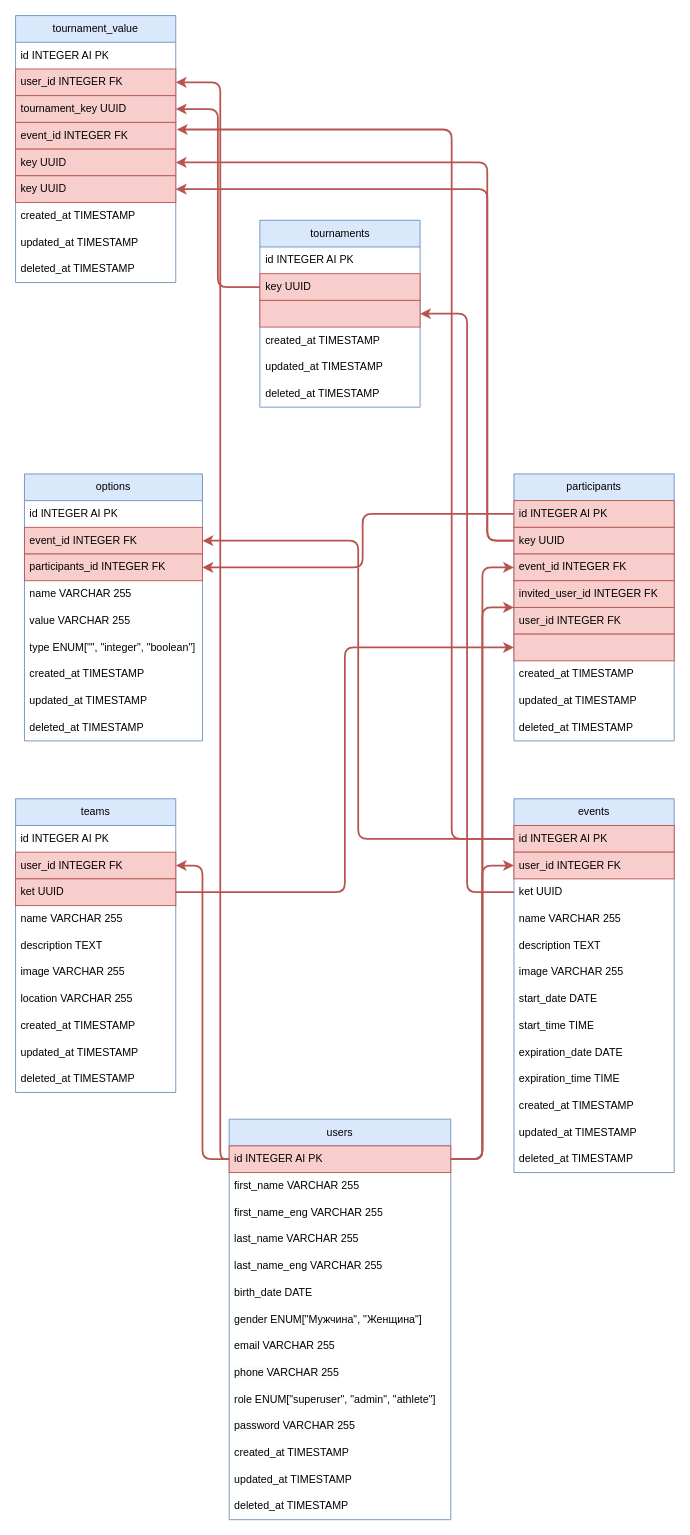
Some shapes in this 690 by 1535 pixel diagram are drawn without their labels. Here are the shapes that lost their labels. From the top down, the centre of each, then its label:
At [339,313]: "event_key UUID".
At [593,647]: "team_key UUID FK".
